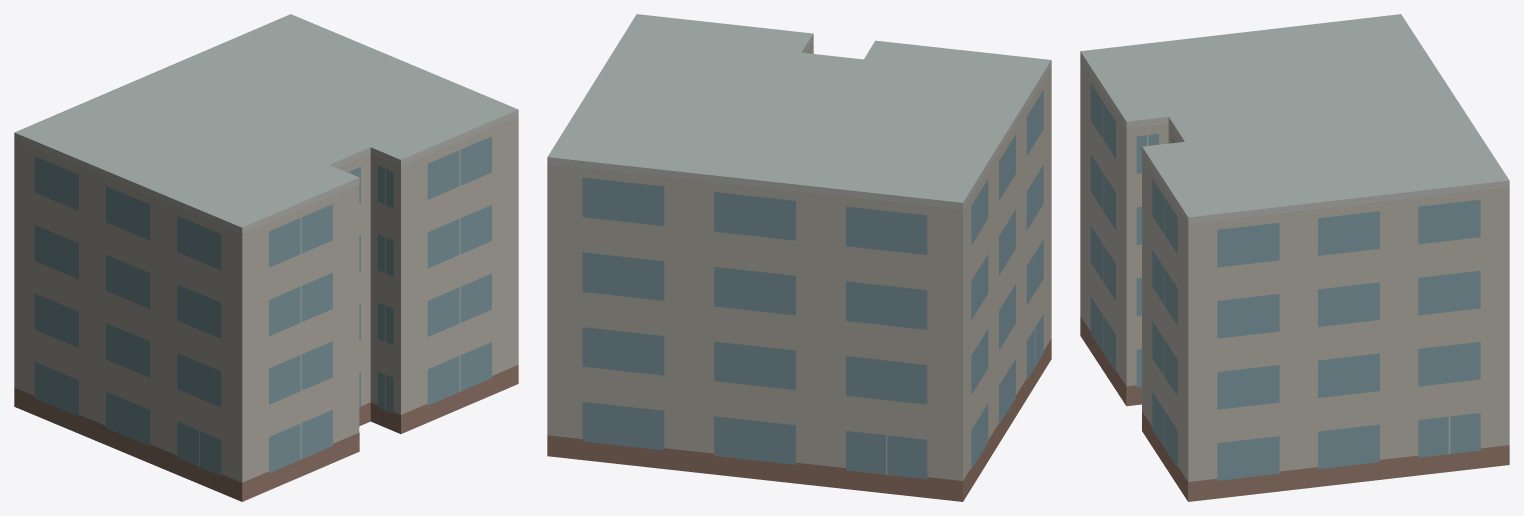
Rendered from survey-upis-32704116.glb.
The picture shows the model from 3 angles, left to right: view 1: azimuth 30°, elevation 25°; view 2: azimuth 150°, elevation 25°; view 3: azimuth 270°, elevation 25°; orthographic projection. The views are drawn at different scales.
Visible parts, largest first — view 1: survey-upis-32704116.tmp; view 2: survey-upis-32704116.tmp; view 3: survey-upis-32704116.tmp.
Part boxes in pixels (box(x1,y1,x2,y2)): survey-upis-32704116.tmp: box(14, 14, 518, 501); survey-upis-32704116.tmp: box(547, 14, 1051, 501); survey-upis-32704116.tmp: box(1080, 14, 1509, 501).
Size of the model in its own units: 16.42 by 10.7 by 14.64.
